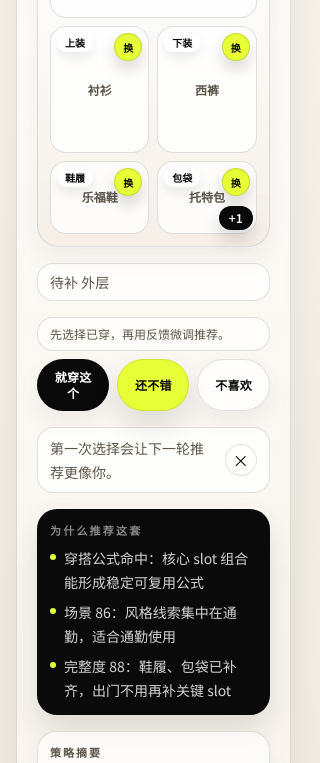
Scenario: TodayPage › records dislike as pre-choice feedback without marking the outfit worn
(page scrolled)
Click the button "不喜欢": (234, 385) [197,359,270,411]
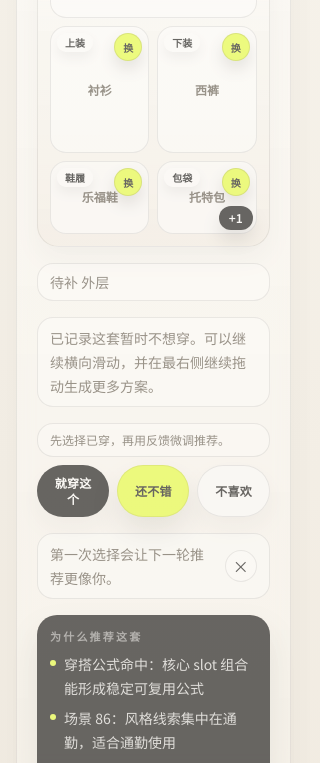
Check: the text "已记录这套暂时不想穿。可以继续横向滑动，并在最右侧继续拖动生成更多方案。" is shown, box [37,317,270,407]
